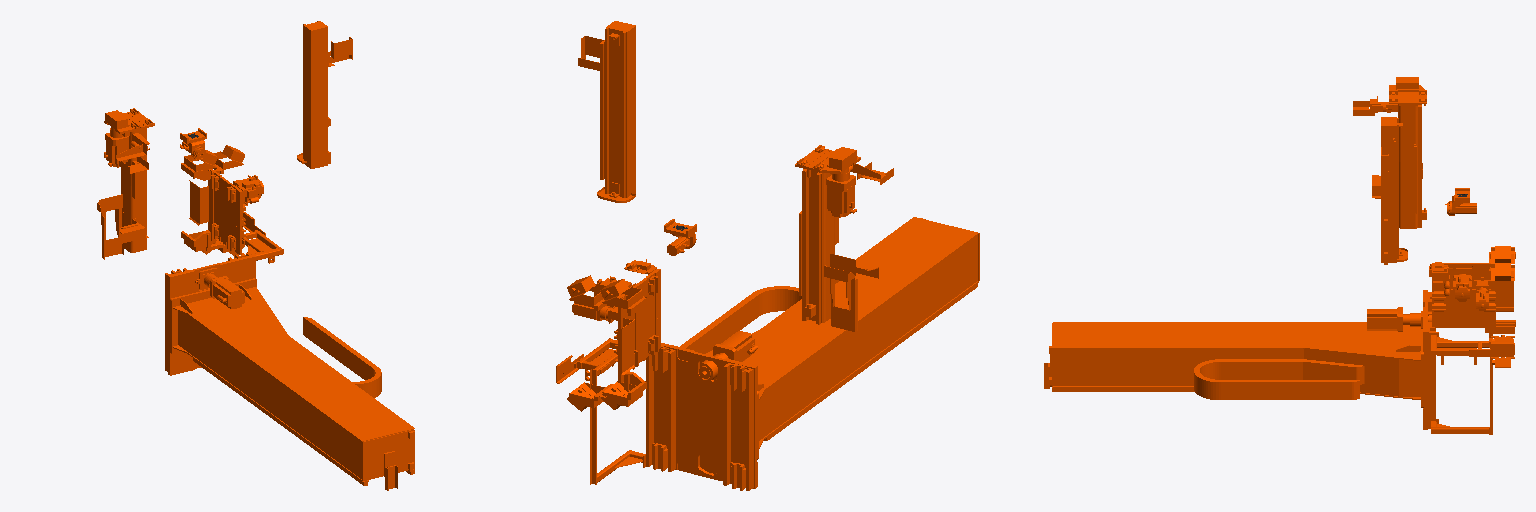
The robot description file, URDF, robot "kuka_kr_80l_4ax_h":
<?xml version="1.0"?>
<robot name="kuka_kr_80l_4ax_h">
  <material name="kuka_orange"><color rgba="1.00 0.40 0.00 1.0"/></material>
  <material name="kuka_dark_gray"><color rgba="0.20 0.20 0.20 1.0"/></material>

  <link name="base_link">
    <inertial>
      <origin xyz="-1.617845 -0.746840 0.423839" rpy="0 0 0"/>
      <mass value="142.222"/>
      <inertia ixx="3.431646" ixy="-0.756348" ixz="-0.666795" iyy="146.148434" iyz="-0.057193" izz="146.718212"/>
    </inertial>
    <visual>
      <origin xyz="0 0 0" rpy="0 0 0"/>
      <geometry><mesh filename="meshes/visual/base_link.stl"/></geometry>
      <material name="kuka_dark_gray"/>
    </visual>
    <collision>
      <origin xyz="0 0 0" rpy="0 0 0"/>
      <geometry><mesh filename="meshes/visual/base_link.stl"/></geometry>
    </collision>
  </link>

  <link name="link_1">
    <inertial>
      <origin xyz="0.098092 -1.340243 -1.703038" rpy="0 0 0"/>
      <mass value="186.667"/>
      <inertia ixx="203.256262" ixy="-21.460305" ixz="-7.163048" iyy="34.831467" iyz="-30.889643" izz="196.632213"/>
    </inertial>
    <visual>
      <origin xyz="0 0 0" rpy="0 0 0"/>
      <geometry><mesh filename="meshes/visual/link_1.stl"/></geometry>
      <material name="kuka_orange"/>
    </visual>
    <collision>
      <origin xyz="0 0 0" rpy="0 0 0"/>
      <geometry><mesh filename="meshes/visual/link_1.stl"/></geometry>
    </collision>
  </link>

  <link name="link_2">
    <inertial>
      <origin xyz="-1.093111 -0.589244 0.000429" rpy="0 0 0"/>
      <mass value="231.111"/>
      <inertia ixx="32.155077" ixy="-0.839292" ixz="0.359009" iyy="31.324217" iyz="1.855978" izz="6.073278"/>
    </inertial>
    <visual>
      <origin xyz="0 0 0" rpy="0 0 0"/>
      <geometry><mesh filename="meshes/visual/link_2.stl"/></geometry>
      <material name="kuka_orange"/>
    </visual>
    <collision>
      <origin xyz="0 0 0" rpy="0 0 0"/>
      <geometry><mesh filename="meshes/visual/link_2.stl"/></geometry>
    </collision>
  </link>

  <link name="link_3">
    <inertial>
      <origin xyz="0.802449 -0.573219 0.370625" rpy="0 0 0"/>
      <mass value="177.778"/>
      <inertia ixx="34.552389" ixy="14.051572" ixz="-13.058928" iyy="46.160290" iyz="8.720956" izz="31.746602"/>
    </inertial>
    <visual>
      <origin xyz="0 0 0" rpy="0 0 0"/>
      <geometry><mesh filename="meshes/visual/link_3.stl"/></geometry>
      <material name="kuka_orange"/>
    </visual>
    <collision>
      <origin xyz="0 0 0" rpy="0 0 0"/>
      <geometry><mesh filename="meshes/visual/link_3.stl"/></geometry>
    </collision>
  </link>

  <link name="link_4">
    <inertial>
      <origin xyz="-0.000008 0.000000 -0.011968" rpy="0 0 0"/>
      <mass value="40.000"/>
      <inertia ixx="0.069738" ixy="-0.000423" ixz="-0.000001" iyy="0.070940" iyz="-0.000005" izz="0.096637"/>
    </inertial>
    <visual>
      <origin xyz="0 0 0" rpy="0 0 0"/>
      <geometry><mesh filename="meshes/visual/link_4.stl"/></geometry>
      <material name="kuka_dark_gray"/>
    </visual>
    <collision>
      <origin xyz="0 0 0" rpy="0 0 0"/>
      <geometry><mesh filename="meshes/visual/link_4.stl"/></geometry>
    </collision>
  </link>

  <link name="tool0"/>

  <joint name="joint_a1" type="prismatic">
    <parent link="base_link"/>
    <child link="link_1"/>
    <origin xyz="0.000000 0.000000 0.000000" rpy="0 0 0"/>
    <axis xyz="0.0 0.0 1.0"/>
    <limit lower="-2.000000" upper="2.000000" effort="4444.4" velocity="2.000000"/>
    <dynamics damping="5.0" friction="1.0"/>
  </joint>

  <joint name="joint_a2" type="prismatic">
    <parent link="link_1"/>
    <child link="link_2"/>
    <origin xyz="0.000000 0.000000 0.000000" rpy="0 0 0"/>
    <axis xyz="0.0 0.0 1.0"/>
    <limit lower="-2.000000" upper="2.000000" effort="4444.4" velocity="2.000000"/>
    <dynamics damping="5.0" friction="1.0"/>
  </joint>

  <joint name="joint_a3" type="prismatic">
    <parent link="link_2"/>
    <child link="link_3"/>
    <origin xyz="0.000000 0.000000 0.000000" rpy="0 0 0"/>
    <axis xyz="0.0 0.0 1.0"/>
    <limit lower="-2.000000" upper="2.000000" effort="4444.4" velocity="2.000000"/>
    <dynamics damping="5.0" friction="1.0"/>
  </joint>

  <joint name="joint_a4" type="revolute">
    <parent link="link_3"/>
    <child link="link_4"/>
    <origin xyz="0.000000 0.000000 0.000000" rpy="0 0 0"/>
    <axis xyz="0.0 0.0 1.0"/>
    <limit lower="-6.248279" upper="6.248279" effort="1777.8" velocity="3.000000"/>
    <dynamics damping="5.0" friction="1.0"/>
  </joint>

  <joint name="link_4-tool0" type="fixed">
    <parent link="link_4"/>
    <child link="tool0"/>
    <origin xyz="0.000000 0.000000 0.000000" rpy="0 1.57079632679 0"/>
  </joint>
</robot>

--- What the picture shows (computed from the rendered views, not written in the file) ---
The picture shows the robot from 3 angles, left to right: view 1: azimuth 30°, elevation 25°; view 2: azimuth 150°, elevation 25°; view 3: azimuth 270°, elevation 25°; orthographic projection.
Robot: kuka_kr_80l_4ax_h — 6 links, 5 joints (1 revolute, 3 prismatic, 1 fixed); root link base_link; default pose: every joint at zero.
Visible links, largest first — view 1: link_1, link_2, link_3; view 2: link_1, link_2, link_3; view 3: link_1, link_2, link_3.
Link boxes in pixels (<box>): link_1: <box>165,145,414,490</box>; link_2: <box>97,108,154,259</box>; link_3: <box>180,21,352,168</box>; link_1: <box>556,217,979,490</box>; link_2: <box>795,145,893,331</box>; link_3: <box>578,21,696,255</box>; link_1: <box>1044,246,1515,434</box>; link_2: <box>1353,77,1426,228</box>; link_3: <box>1381,117,1476,264</box>.
Size in the robot's own frame: 2.81 by 4.79 by 3.7 metres.
Meshes: 5 distinct files referenced, 4 mesh visuals loaded (4 binary STL); not drawn: 1 (reference not matched to a file when rendering).
